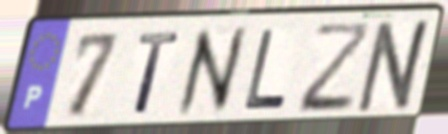7: (68, 29, 121, 124)
L: (240, 27, 290, 114)
N: (352, 15, 438, 115), (173, 23, 250, 122)
T: (132, 30, 184, 118)
Z: (296, 19, 374, 117)
